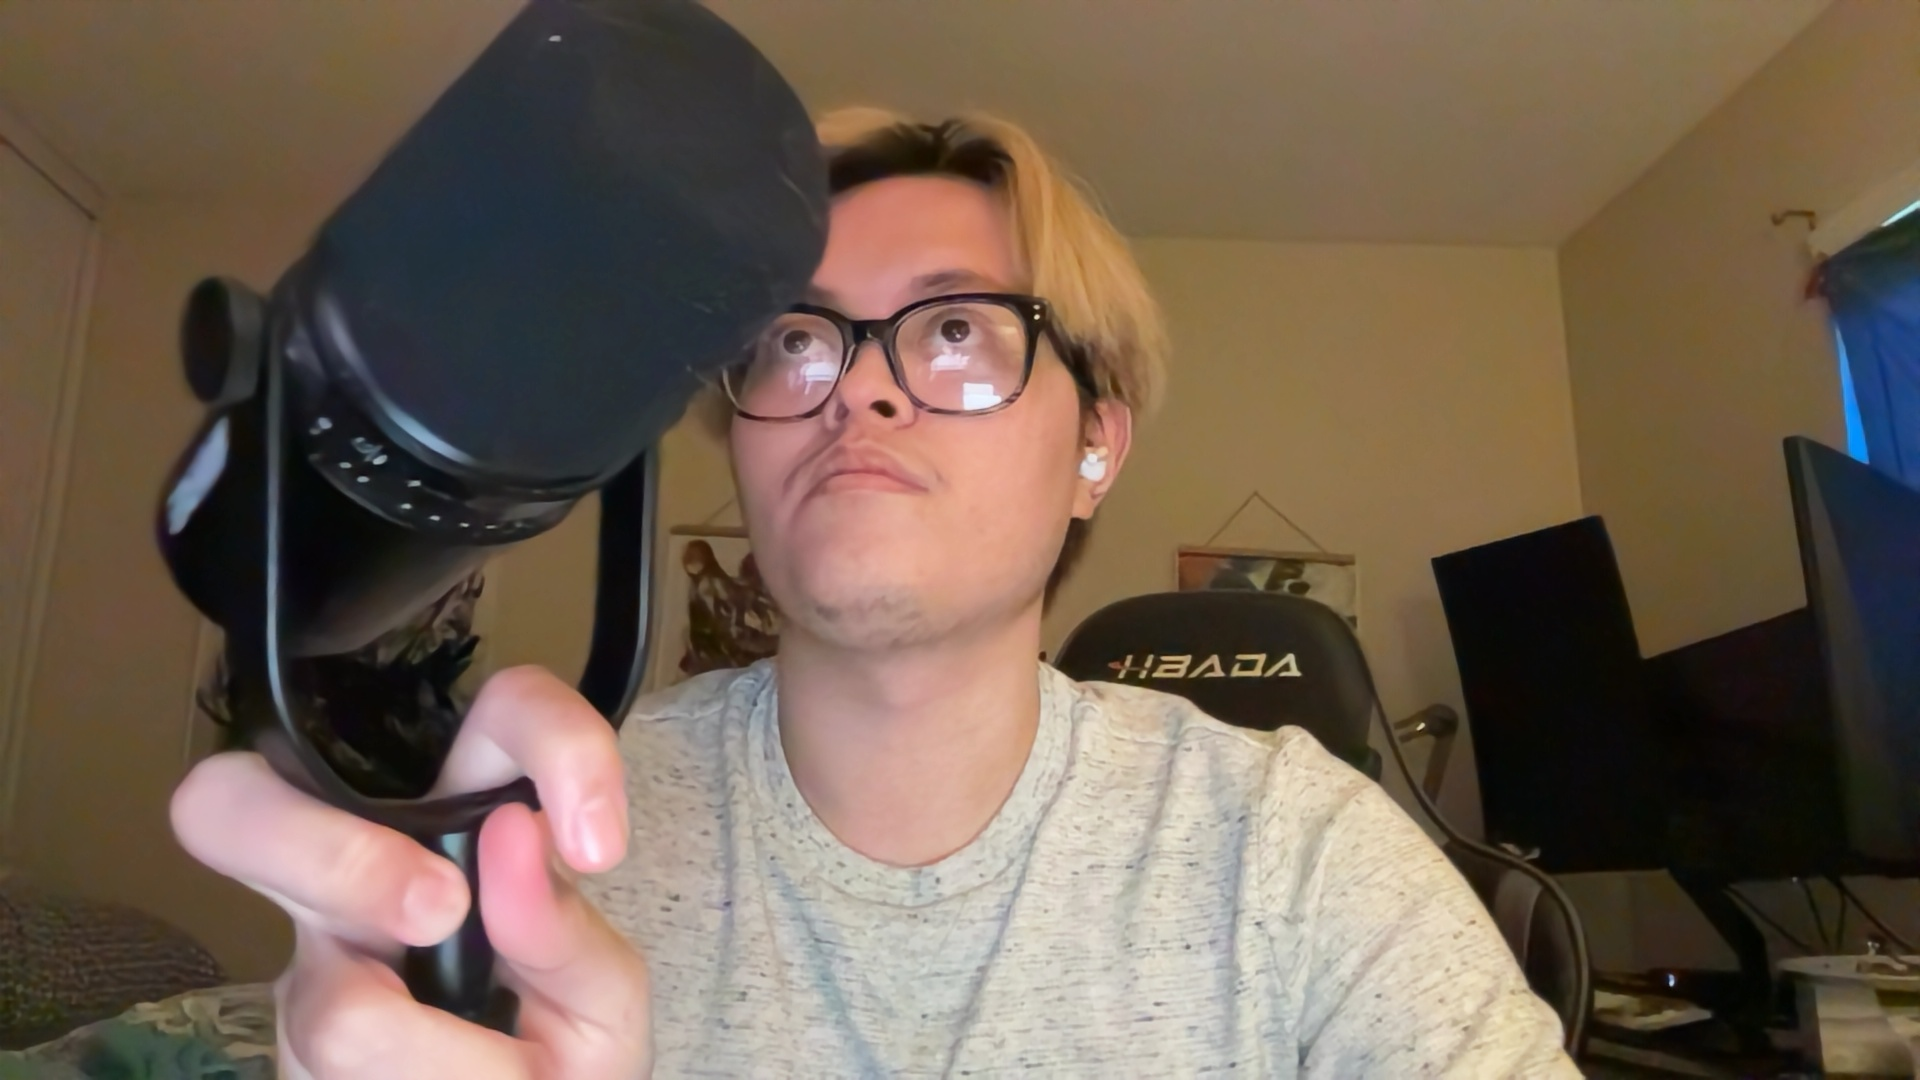microphone: (142, 1, 825, 855)
